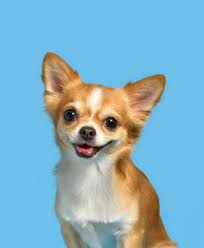chihuahua: (23, 38, 175, 248)
